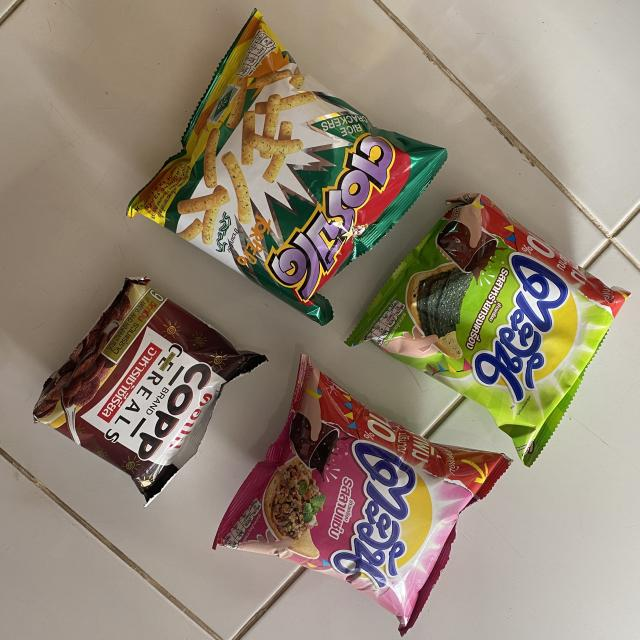plastik: (128, 10, 446, 325), (214, 355, 510, 634), (349, 192, 629, 465), (34, 278, 266, 504)
